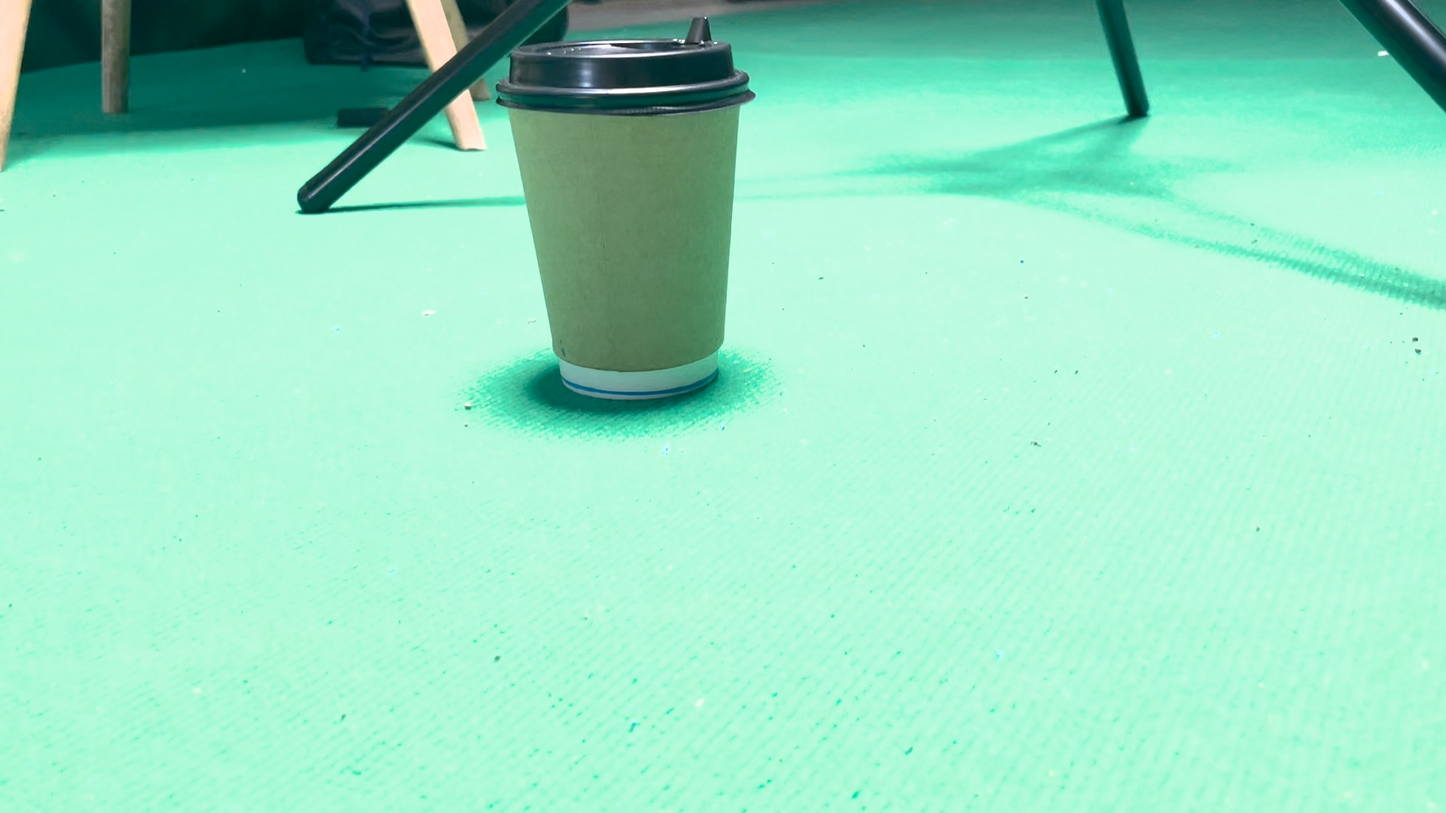cup: (715, 470, 824, 611)
